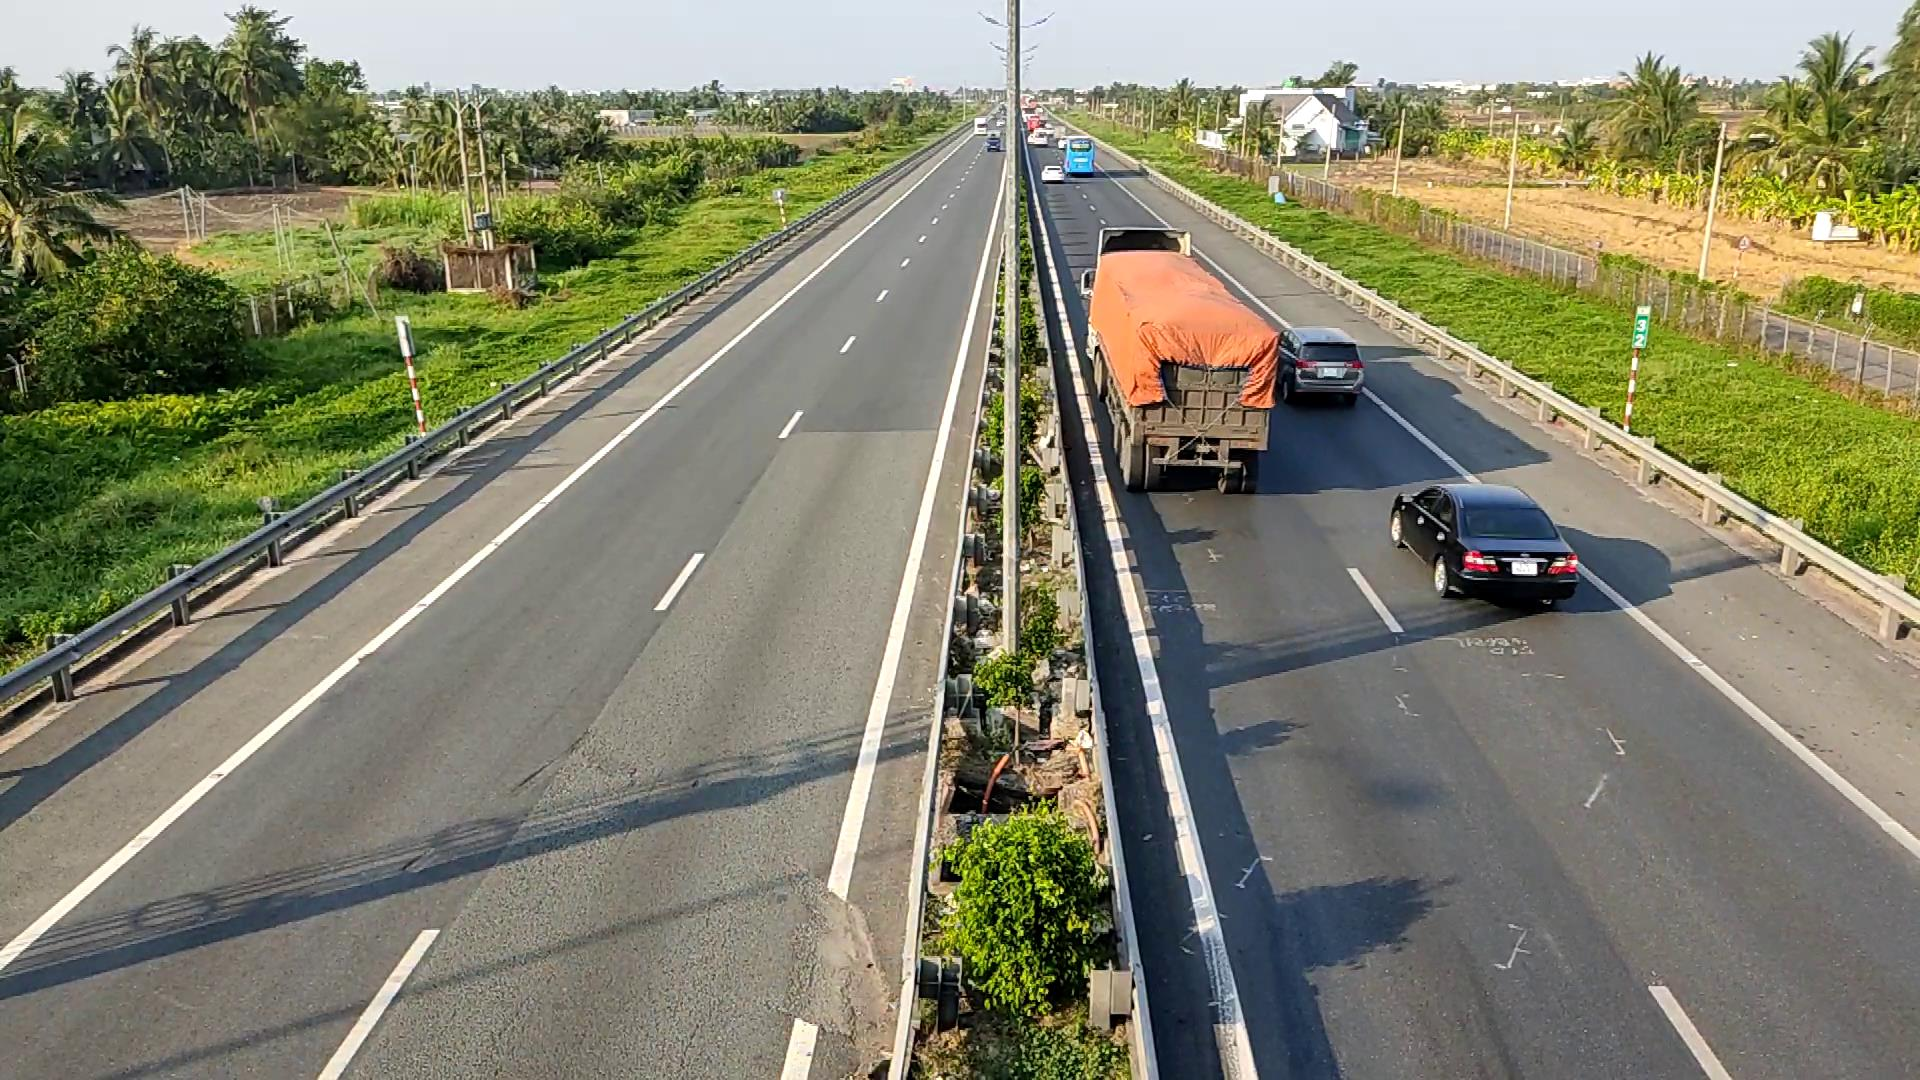car: (1389, 481, 1580, 604), (1275, 324, 1366, 406)
truck: (1084, 227, 1280, 495)
